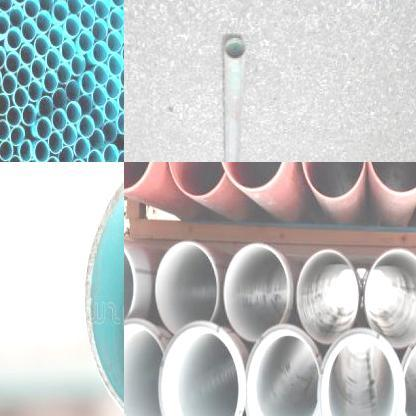pipe: (85, 162, 124, 416), (158, 320, 244, 416), (245, 324, 320, 416), (320, 333, 402, 416), (224, 243, 288, 341), (154, 240, 218, 335), (296, 249, 359, 344), (364, 248, 416, 348), (124, 318, 167, 416), (301, 162, 366, 199), (167, 162, 224, 198), (218, 162, 286, 190), (366, 162, 416, 194), (124, 240, 139, 326), (124, 162, 154, 192), (224, 36, 245, 60), (79, 114, 95, 138), (66, 100, 82, 124), (80, 6, 96, 30), (52, 0, 69, 22), (36, 117, 52, 140), (80, 71, 96, 94), (48, 25, 64, 48), (78, 31, 95, 52), (51, 108, 67, 130), (108, 54, 124, 76), (92, 41, 108, 63), (6, 28, 22, 50), (64, 14, 80, 36), (36, 10, 52, 32), (6, 106, 22, 127), (12, 87, 28, 108), (92, 86, 108, 107), (107, 31, 123, 52), (92, 19, 108, 40), (34, 140, 49, 162), (62, 124, 77, 146), (31, 58, 46, 80), (20, 43, 35, 65), (35, 34, 50, 56), (109, 8, 124, 30), (49, 131, 63, 154), (6, 51, 20, 74), (74, 138, 90, 158), (89, 128, 104, 149), (94, 64, 109, 85), (57, 63, 72, 84), (61, 40, 76, 61), (22, 19, 37, 40), (22, 104, 36, 126), (28, 80, 42, 102), (66, 79, 80, 101), (106, 76, 120, 98), (72, 54, 86, 76), (46, 48, 60, 70), (10, 126, 25, 146), (38, 96, 53, 116), (52, 88, 67, 108), (2, 74, 17, 94), (103, 121, 117, 142), (90, 107, 104, 128), (104, 100, 118, 121), (44, 71, 58, 92), (9, 6, 23, 27), (102, 144, 118, 162), (24, 0, 40, 18), (16, 67, 30, 87), (20, 139, 32, 162), (94, 0, 109, 18), (0, 141, 13, 161), (58, 146, 73, 162), (0, 92, 10, 115), (67, 0, 83, 14), (0, 12, 10, 34), (0, 119, 10, 140), (87, 149, 103, 162), (38, 0, 54, 11), (0, 0, 13, 12), (117, 112, 124, 134), (0, 46, 6, 69), (118, 89, 124, 111), (8, 155, 23, 162), (45, 156, 61, 162), (116, 150, 124, 162), (111, 0, 124, 7), (120, 67, 124, 88), (82, 0, 97, 5)
